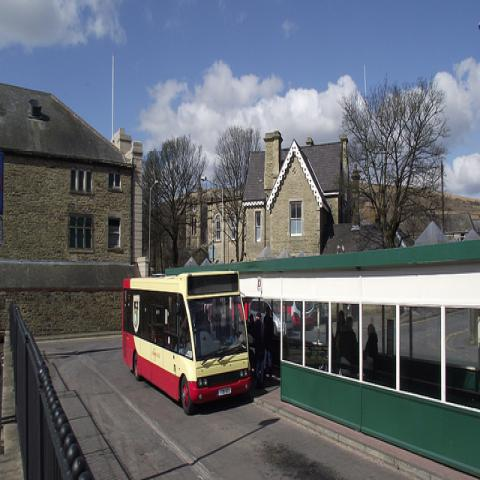bus: (124, 269, 251, 415)
car: (249, 298, 294, 336)
